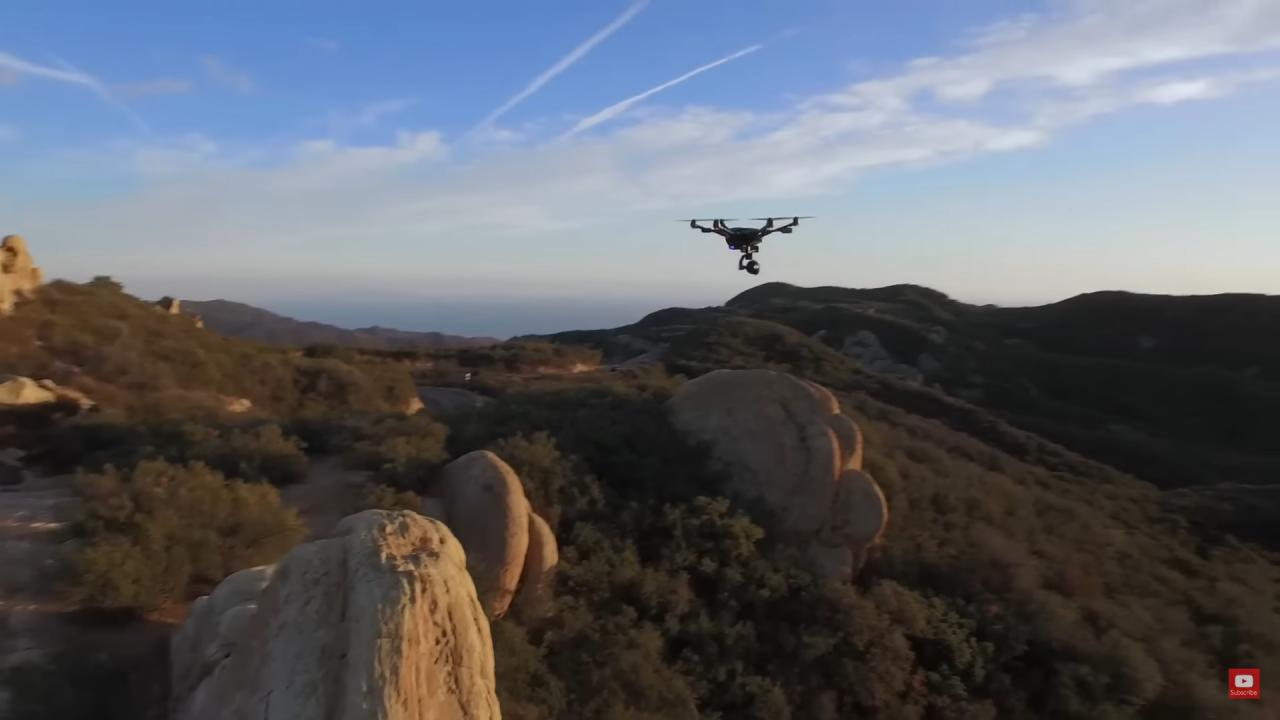Drone: (669, 207, 833, 283)
